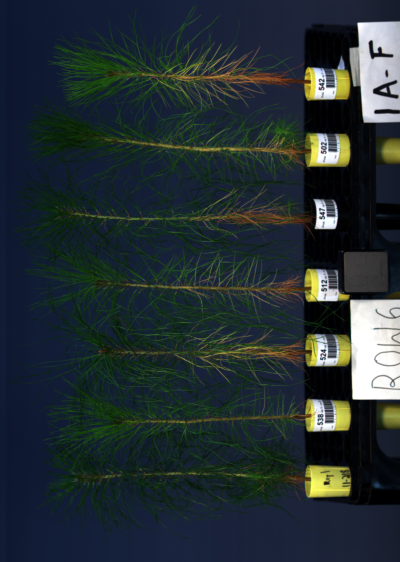tube: (302, 65, 351, 100), (303, 464, 352, 499), (301, 395, 350, 430), (305, 331, 354, 366), (301, 266, 350, 301), (301, 195, 350, 230), (302, 132, 351, 167)
